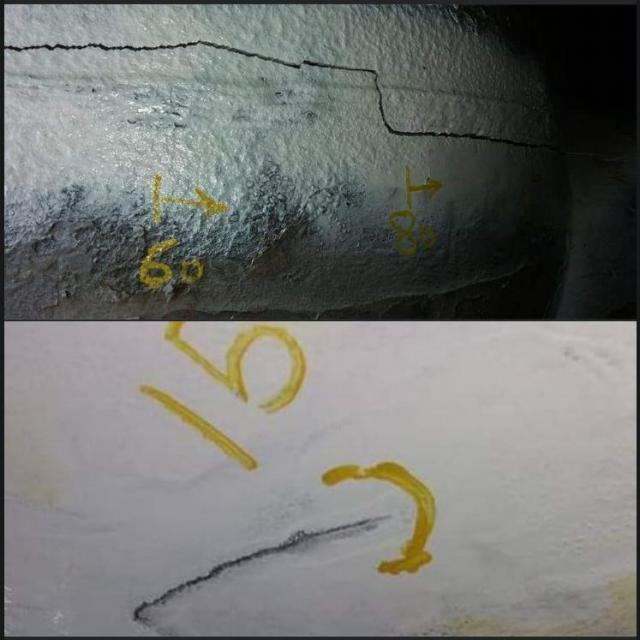defect: (1, 36, 567, 158), (130, 513, 397, 629)
